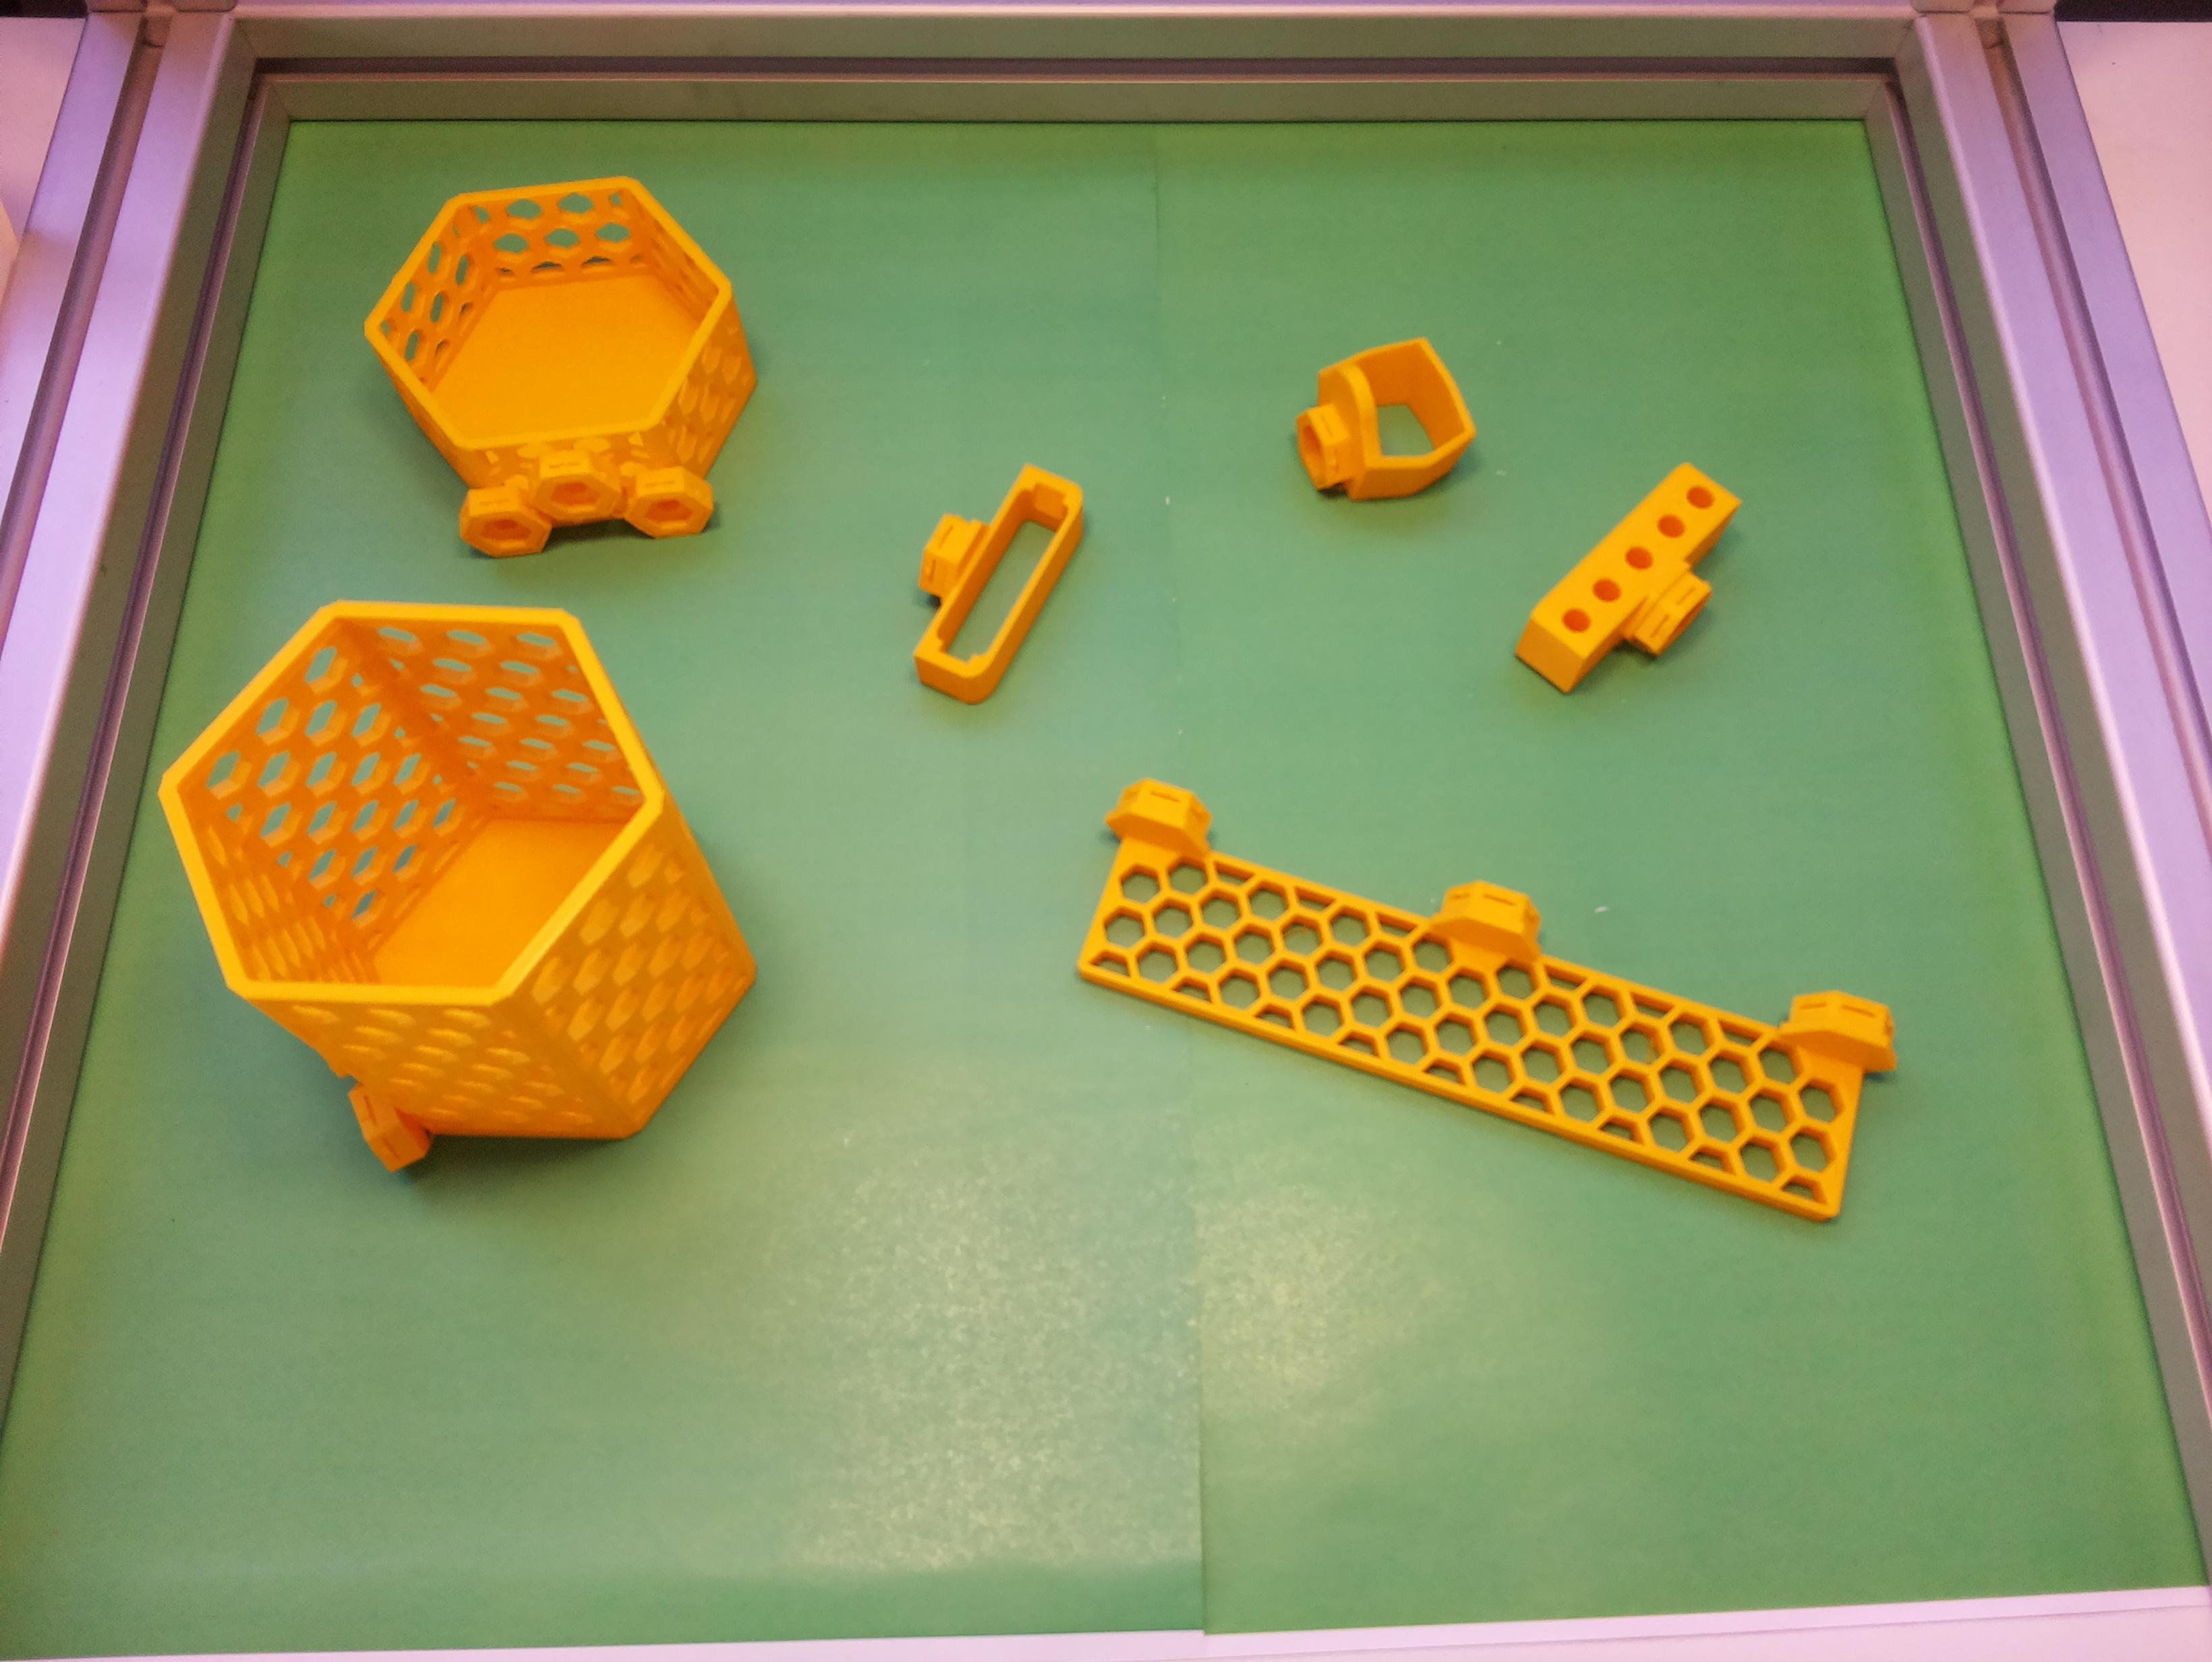bit_holder: (1501, 450, 1776, 726)
bottle_holder: (351, 159, 773, 569)
cup_holder: (96, 505, 800, 1266)
cutter_holder: (866, 435, 1103, 716)
scissor_holder: (1271, 321, 1491, 532)
tool_holder: (1054, 770, 1912, 1229)
